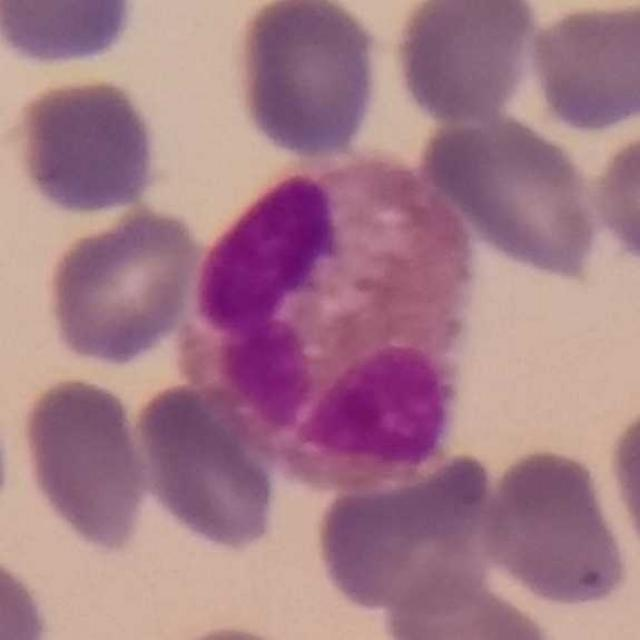Eosinophil: (182, 150, 499, 486)
RBC: (412, 111, 605, 283), (309, 447, 502, 618), (128, 378, 286, 556), (41, 203, 207, 370), (476, 442, 634, 612), (227, 0, 386, 163), (15, 372, 154, 555), (9, 74, 164, 220), (387, 0, 541, 127), (523, 0, 640, 136), (375, 563, 570, 640), (0, 0, 142, 71), (586, 117, 640, 279), (603, 391, 640, 582), (0, 546, 53, 640), (147, 620, 316, 640), (0, 376, 17, 543)
